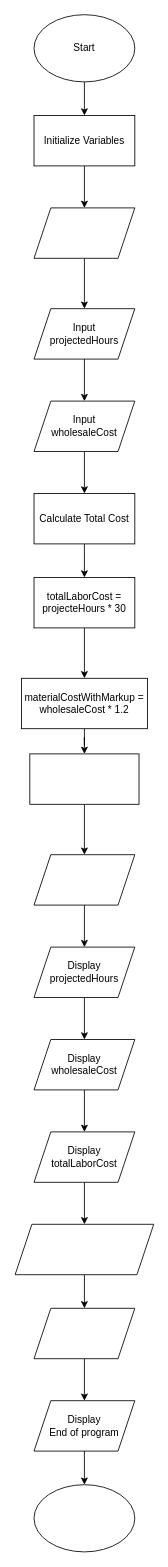
Image size: 168x1567. Some labels were removed from this diagram. Each missing label, with the centre of its shape:
Collect Input: [84,232]
Display materialCostWithMarkup: [84,1249]
Display Output: [84,879]
Display totalCost: [84,1333]
totalCost = totalLaborCost + materialCostWithMarkup: [84,778]
